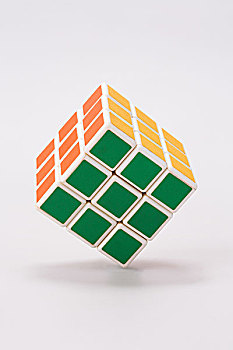cube: (32, 81, 197, 269)
